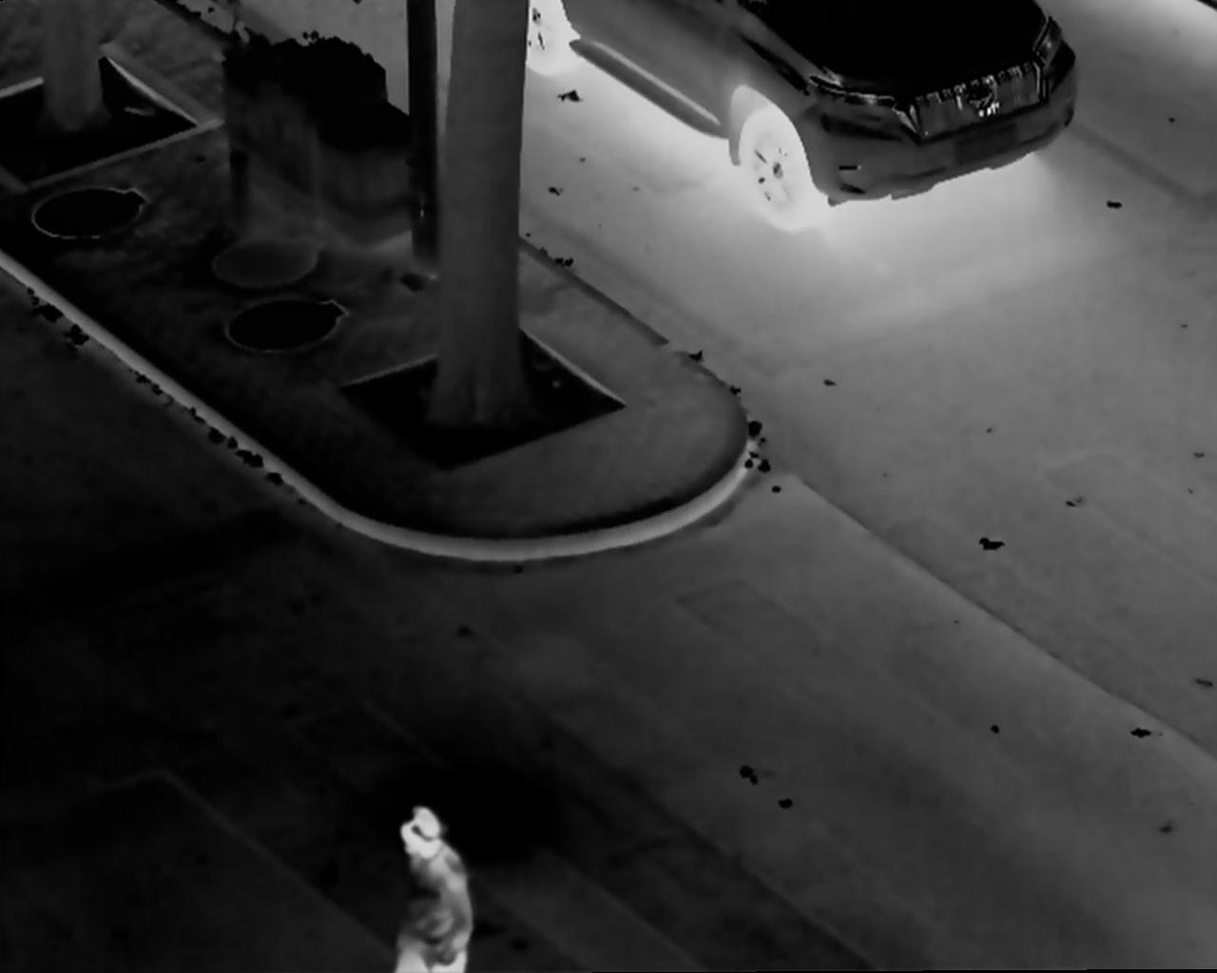person: (377, 801, 483, 973)
